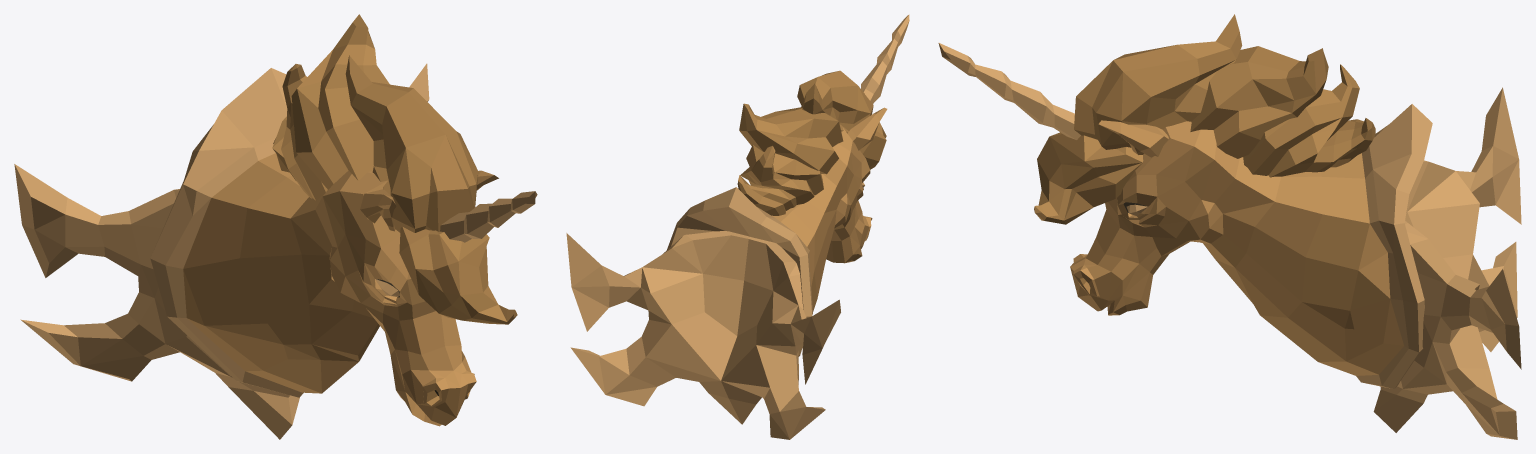
File: SM_Veh_Ship_M_Figurehead_03.fbx
3 views of the same model, side by side, from view 1: azimuth 30°, elevation 25°; view 2: azimuth 150°, elevation 25°; view 3: azimuth 270°, elevation 25° (orthographic). The views are drawn at different scales.
Parts seen in each view (by area): view 1: SM_Veh_Ship_M_Figurehead_03; view 2: SM_Veh_Ship_M_Figurehead_03; view 3: SM_Veh_Ship_M_Figurehead_03.
Boxes of the visible parts, x1=… form: SM_Veh_Ship_M_Figurehead_03: x1=14, y1=14, x2=537, y2=439; SM_Veh_Ship_M_Figurehead_03: x1=566, y1=14, x2=909, y2=439; SM_Veh_Ship_M_Figurehead_03: x1=938, y1=14, x2=1521, y2=439.
Bounding box in the file's own units: 428 × 451 × 581.
